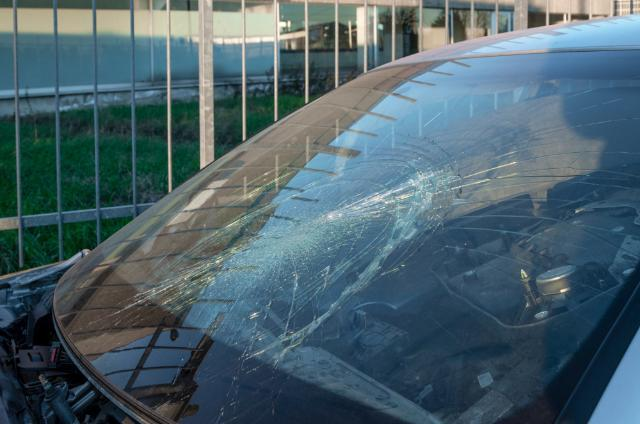glass shatter: (53, 51, 640, 424)
